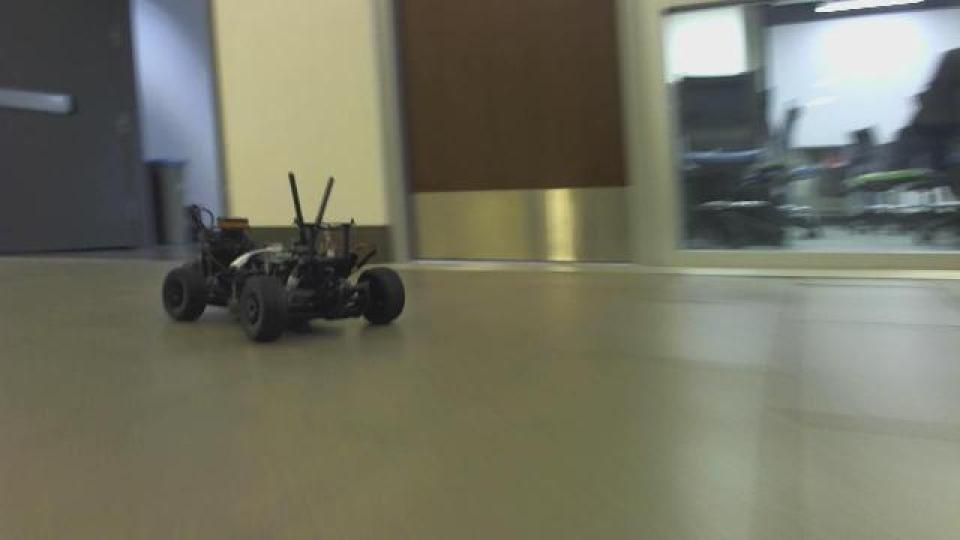car: (158, 169, 408, 345)
